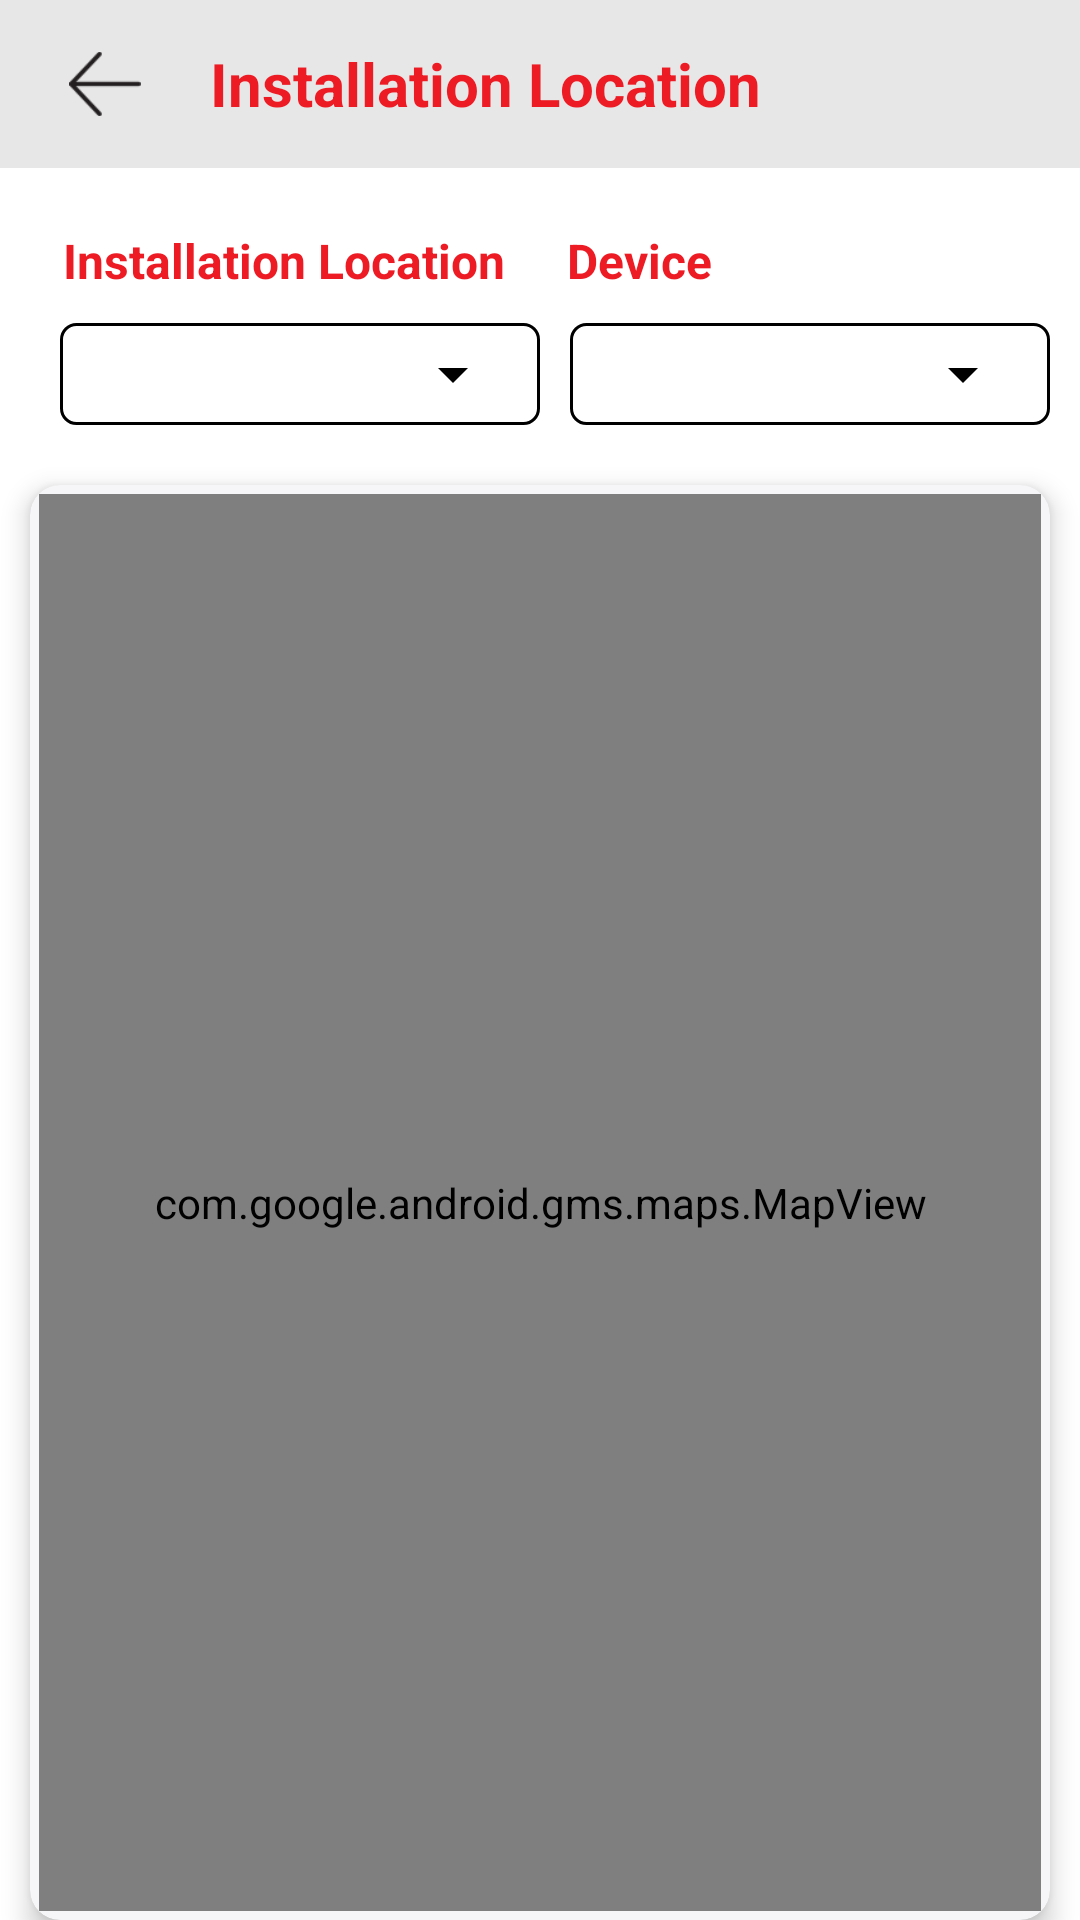

Icons on this 1080px x 1920px Android screen, each with its box as (x1, y1, x2, y2):
back: (69, 52, 141, 116)
